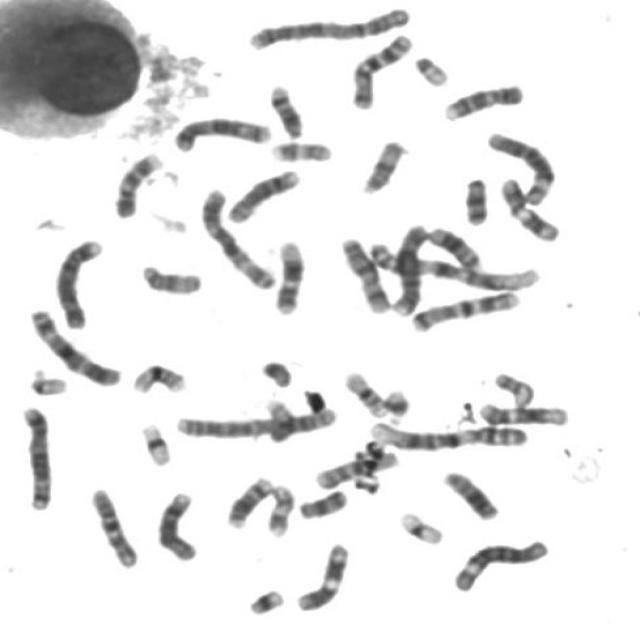A1: (362, 236, 544, 292), (362, 413, 532, 453)
A2: (242, 0, 415, 51), (172, 401, 342, 441)
A3: (194, 181, 280, 291), (24, 302, 124, 387)
B4: (48, 232, 108, 330), (386, 216, 432, 317)
B5: (15, 398, 58, 512), (168, 111, 276, 154)
C10: (84, 482, 142, 570), (310, 445, 403, 490)
C11: (495, 171, 564, 244), (291, 536, 354, 612)
C12: (268, 234, 309, 316), (474, 397, 573, 428)
C6: (448, 532, 554, 594), (482, 125, 560, 207)
C7: (344, 25, 416, 111), (406, 283, 524, 334)
C8: (222, 163, 305, 224), (152, 484, 201, 563)
C9: (109, 146, 166, 220), (438, 76, 528, 122)
D13: (437, 463, 503, 522), (423, 220, 487, 272)
D14: (221, 469, 278, 529), (263, 78, 308, 140)
D15: (356, 134, 410, 196), (136, 258, 207, 296)
E16: (339, 365, 390, 418), (127, 357, 190, 395)
E17: (262, 478, 298, 538), (266, 134, 336, 164)
E18: (293, 482, 352, 521), (458, 171, 492, 226)
F19: (394, 505, 448, 546), (135, 416, 175, 468)
F20: (488, 365, 539, 408), (259, 394, 297, 445)
G21: (242, 582, 289, 617), (378, 383, 414, 425)
G22: (408, 48, 453, 86), (24, 363, 70, 396)
X: (335, 231, 394, 314)
Y: (255, 352, 296, 388)
